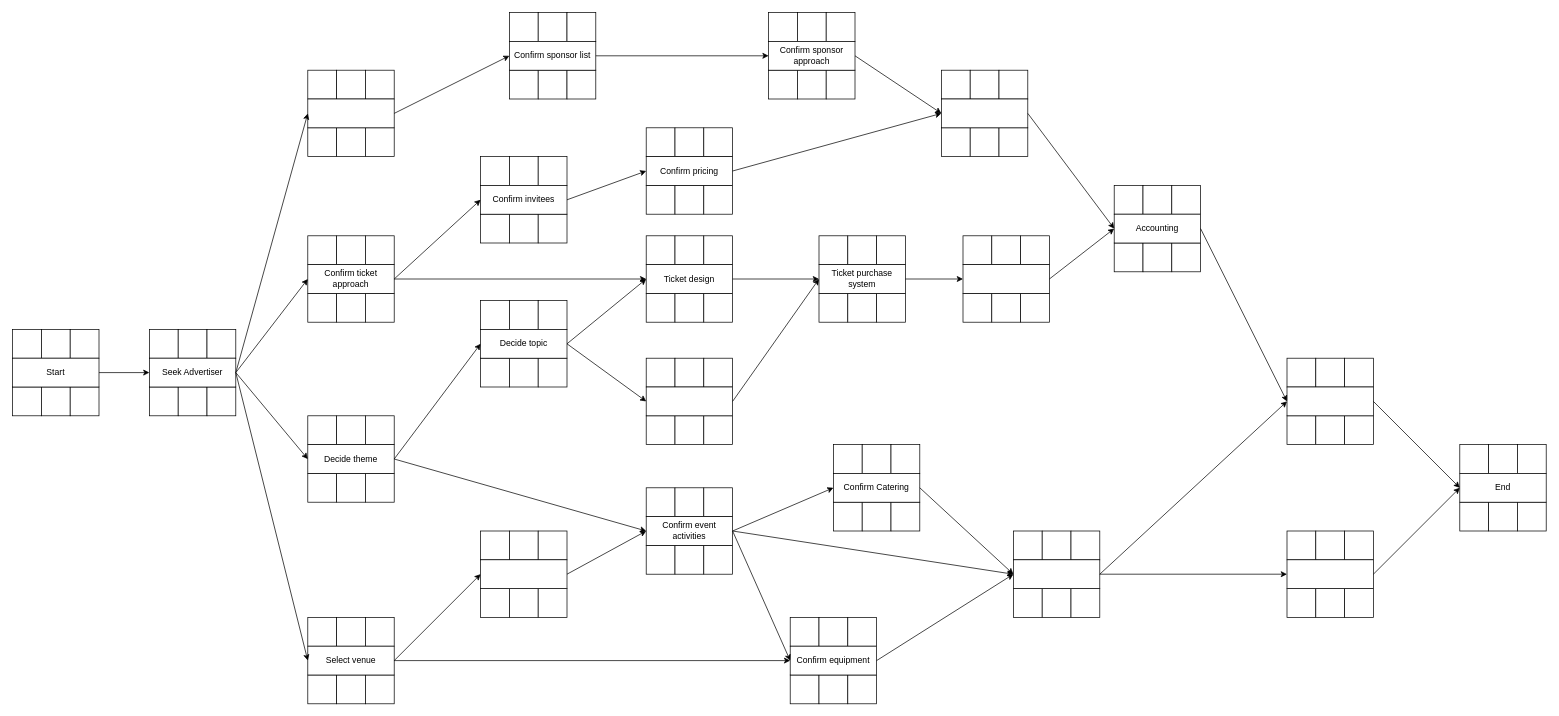
The diagram is 1559 pixels wide and 716 high, and some of its shapes have lost their labels. Here are the shapes that lost their labels. From the top down, the box of each, then its label:
(307, 98, 394, 128): Guest list (VIP, Speaker)
(941, 98, 1028, 128): Confirm sponsor finance amount
(962, 264, 1049, 293): Ticket confirmation
(645, 386, 733, 416): Website design
(1286, 386, 1373, 416): Rehearsal
(480, 559, 567, 589): Book venue
(1013, 559, 1100, 589): Confirm timetable
(1286, 559, 1373, 589): Remind guest and attendee
